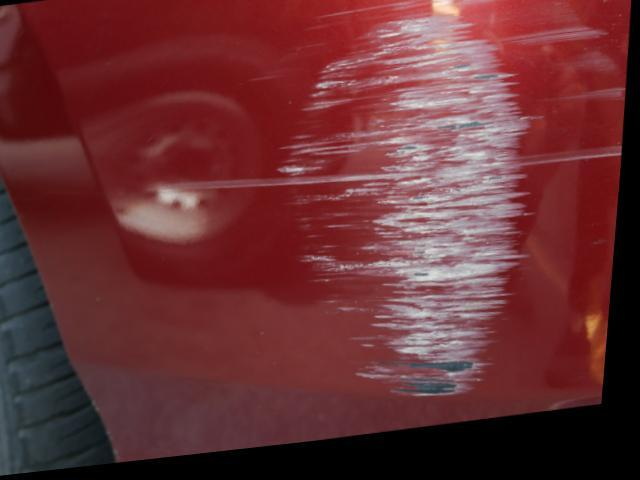scratch: (254, 0, 630, 417)
